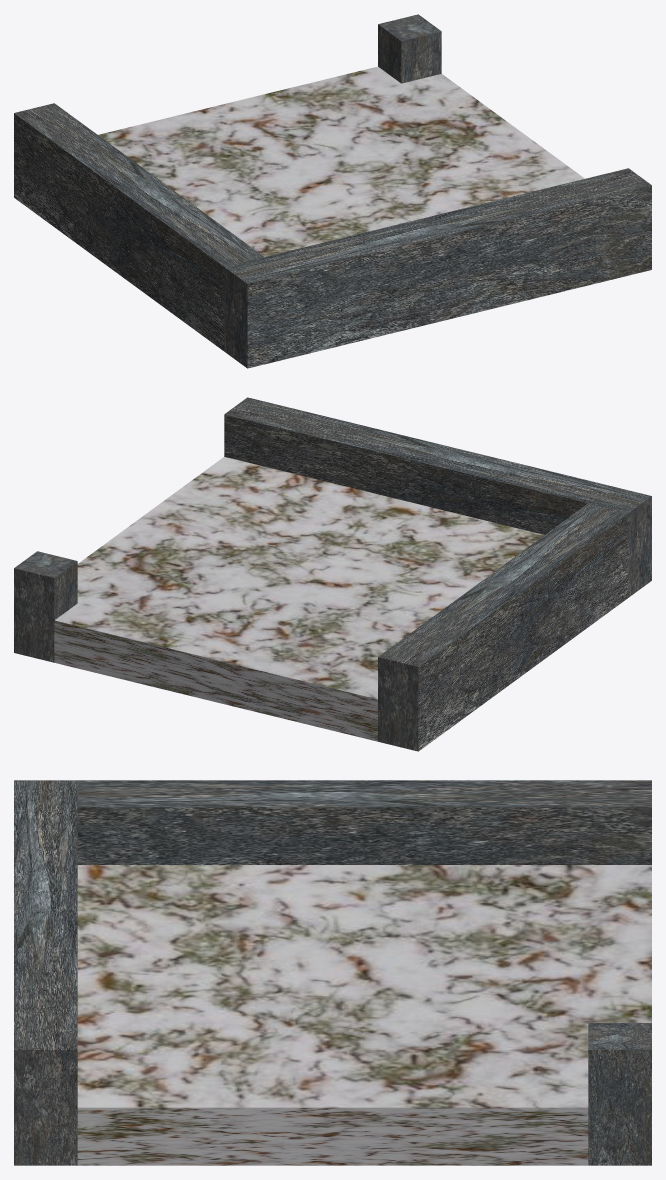
File: Corner.glb
3 renders of one model, top to bottom at view 1: azimuth 30°, elevation 25°; view 2: azimuth 150°, elevation 25°; view 3: azimuth 270°, elevation 25°, orthographic. The views are drawn at different scales.
Parts seen in each view (by area): view 1: Corner, Cube.004, Cube.005, Cube.010; view 2: Corner, Cube.005, Cube.004, Cube.010; view 3: Corner, Cube.005, Cube.004, Cube.010.
Boxes of the visible parts, <box> form: Corner: <box>98,66,584,256</box>; Cube.004: <box>224,168,651,368</box>; Cube.005: <box>14,103,263,351</box>; Cube.010: <box>378,14,441,83</box>; Corner: <box>54,457,544,741</box>; Cube.005: <box>378,503,628,751</box>; Cube.004: <box>224,397,651,597</box>; Cube.010: <box>14,551,77,662</box>; Corner: <box>77,865,651,1165</box>; Cube.005: <box>77,780,651,864</box>; Cube.004: <box>14,780,77,1165</box>; Cube.010: <box>588,1023,651,1165</box>.
Size of the model in its own units: 1 by 0.2 by 1.
Materials: 2 (2 with a texture image).
